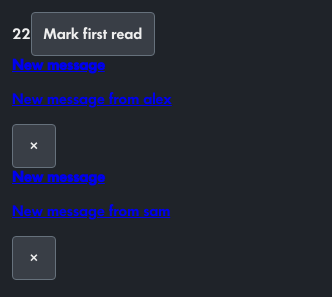
Scenario: stacks distinct friend message notifications and dismisses them independently
Expected: the text "New message from alex" is shown, [12,91,172,107]
Expected: the text "New message from sam" is shown, [12,203,170,219]
Click the button named "Dismiss notification": (34, 146) [12,124,56,168]
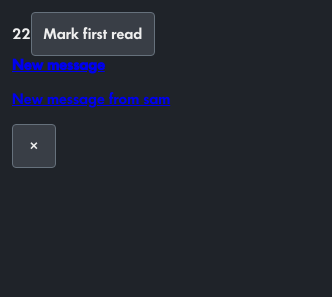
Expected: the text "New message from sam" is shown, [12,91,170,107]
Result: the link "New message from alex" is gone
